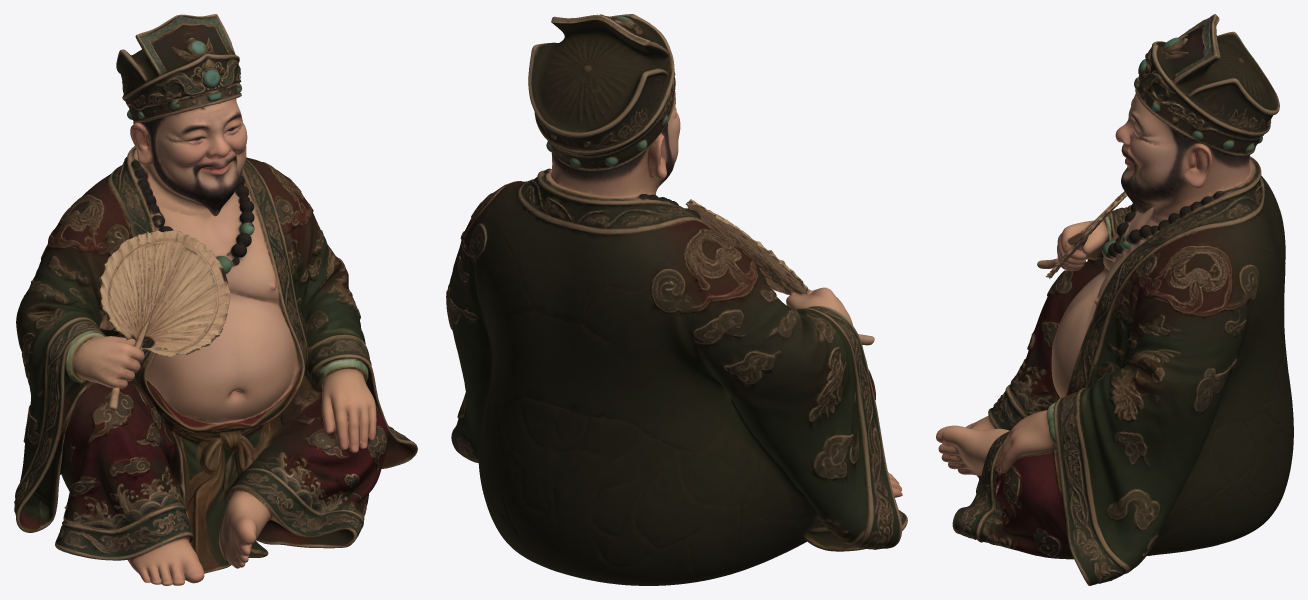
Rendered from tho-dia.glb.
3 views of the same model, side by side, from view 1: azimuth 30°, elevation 25°; view 2: azimuth 150°, elevation 25°; view 3: azimuth 270°, elevation 25° (orthographic). The views are drawn at different scales.
Visible parts, largest first — view 1: tripo_node_e8f2e1aa-689e-4cbe-b4b6-67aa2b8d0164; view 2: tripo_node_e8f2e1aa-689e-4cbe-b4b6-67aa2b8d0164; view 3: tripo_node_e8f2e1aa-689e-4cbe-b4b6-67aa2b8d0164.
Boxes of the visible parts, bbox=[...] form: tripo_node_e8f2e1aa-689e-4cbe-b4b6-67aa2b8d0164: bbox=[14, 14, 417, 585]; tripo_node_e8f2e1aa-689e-4cbe-b4b6-67aa2b8d0164: bbox=[446, 14, 907, 585]; tripo_node_e8f2e1aa-689e-4cbe-b4b6-67aa2b8d0164: bbox=[936, 14, 1293, 585].
Bounding box in the file's own units: 0.8865 × 0.9998 × 0.6687.
Materials: 1 (1 with a texture image).
